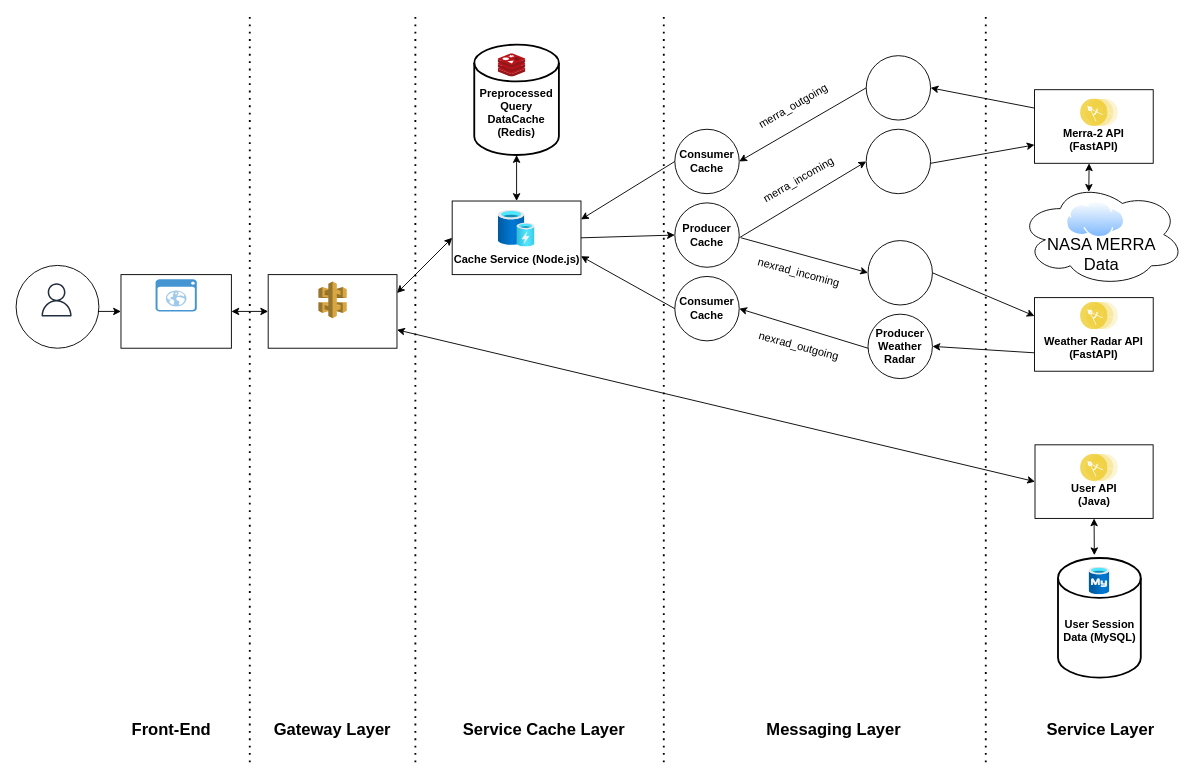
Some shapes in this 1201 by 779 pixel diagram are drawn without their labels. The centre of each missing label's shape, as x and y in pixels:
"API Gateway (Node.js)" goes at [332,299].
"Consumer Merra-2" goes at [898,161].
"Consumer Weather Radar" goes at [899,272].
"Producer Merra-2" goes at [898,87].
"UI Angular" goes at [175,295].
"User" goes at [56,299].
